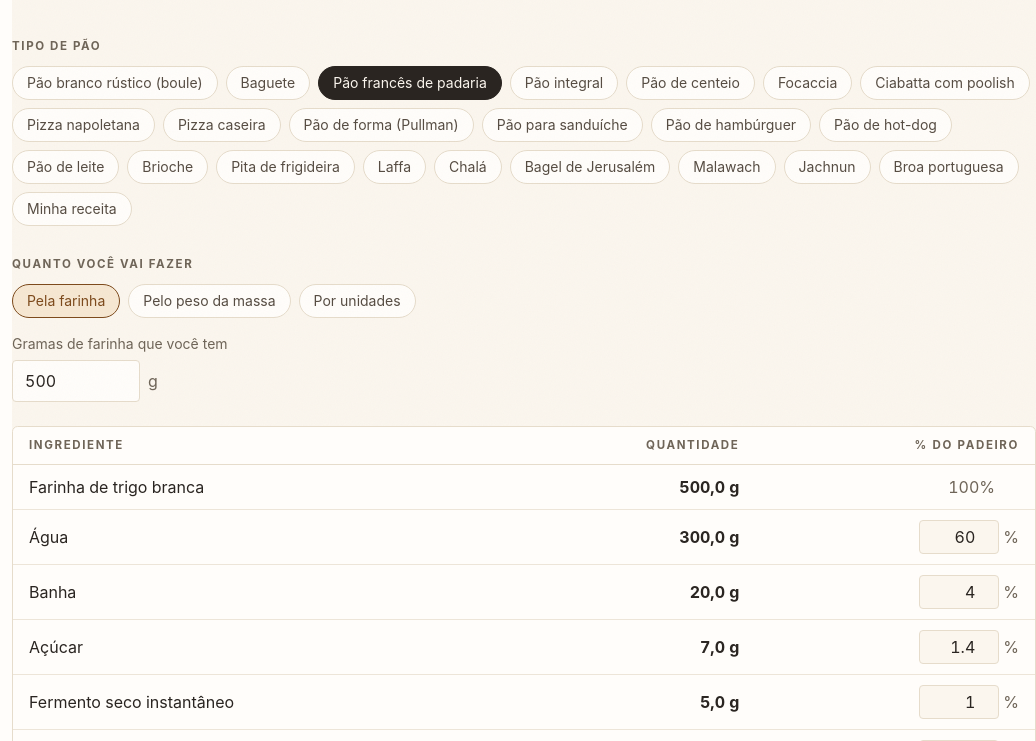
Scenario: calculadora de pães › deixa editar a porcentagem e reflete na hora
This screenshot has width=1036, height=741.
Replace the text in the number field named "% do padeiro — Água" with "75". click: coordinates (959, 537)
box: [919, 520, 999, 554]
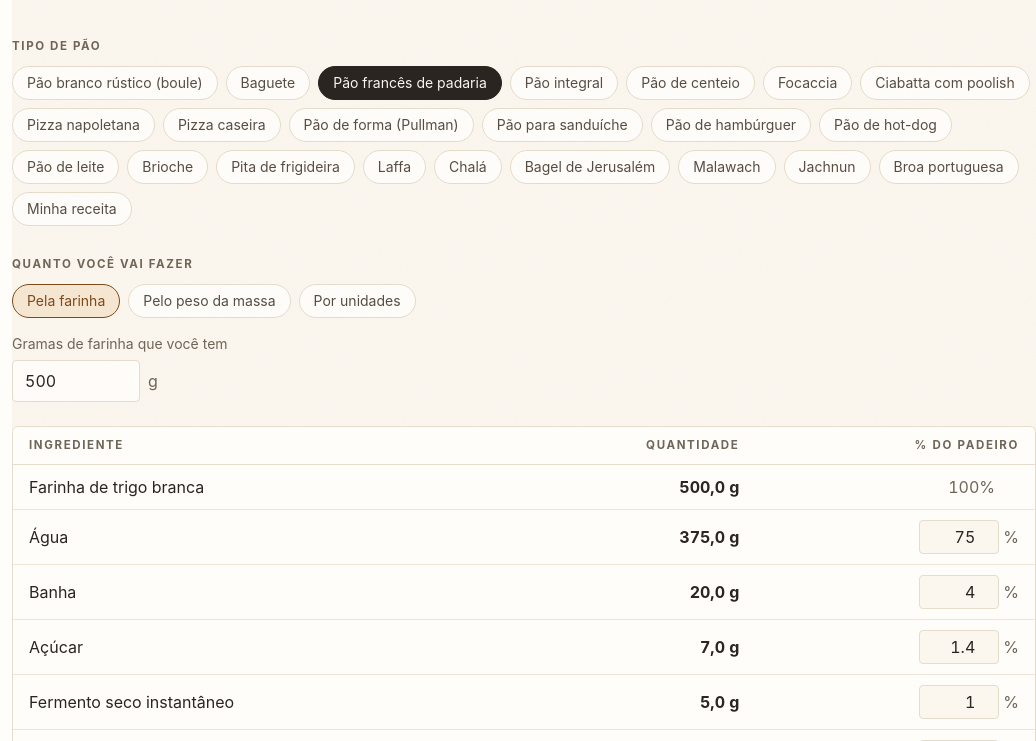
Now the text "375,0 g" is shown, box [499, 510, 756, 565]
